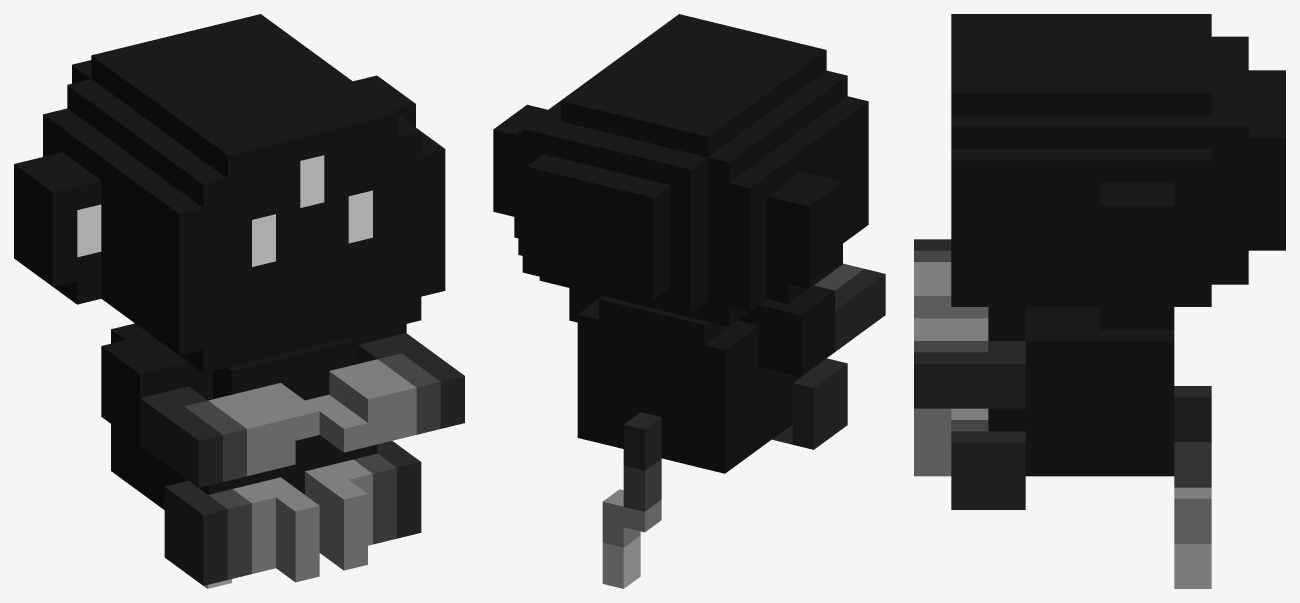
The model's file is CharacterBlack.FBX.
3 views of the same model, side by side, from view 1: azimuth 30°, elevation 25°; view 2: azimuth 150°, elevation 25°; view 3: azimuth 270°, elevation 25° (orthographic). The views are drawn at different scales.
Parts seen in each view (by area): view 1: CharacterBlack; view 2: CharacterBlack; view 3: CharacterBlack.
Part boxes in pixels (x1,y1,x2,y2): CharacterBlack: (14,14,464,588); CharacterBlack: (493,14,885,588); CharacterBlack: (914,14,1285,588).
Bounding box in the file's own units: 0.6999 × 1 × 0.65.
Materials: 1 (1 with a texture image).
